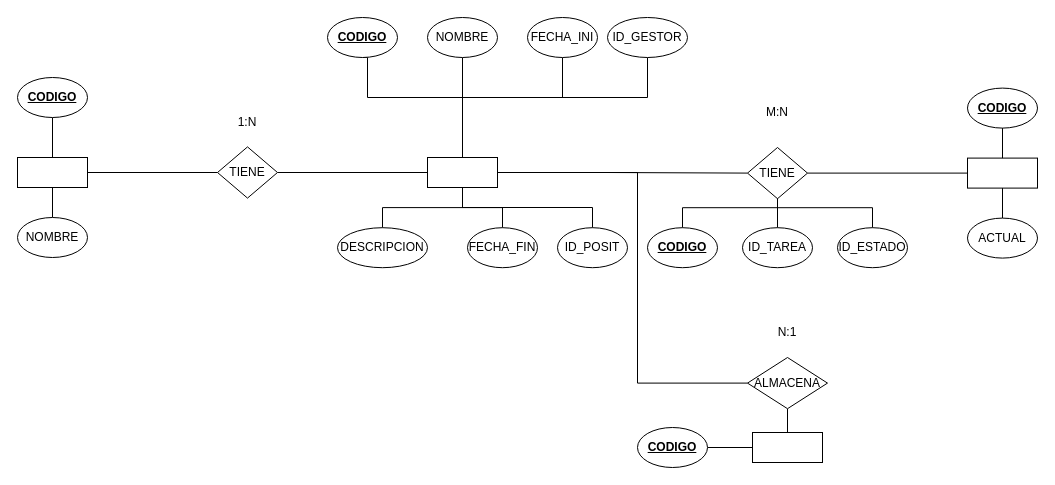
This 1055x485 diagram has some shape labels left out. The shapes that lost their labels are listed below. From the top down, each one's box as (x1, y1, x2, y2) in pixels, then its label:
(16, 156, 88, 188): POSIT
(426, 156, 498, 188): TAREA
(966, 157, 1038, 188): ESTADO
(752, 432, 822, 462): GESTOR
